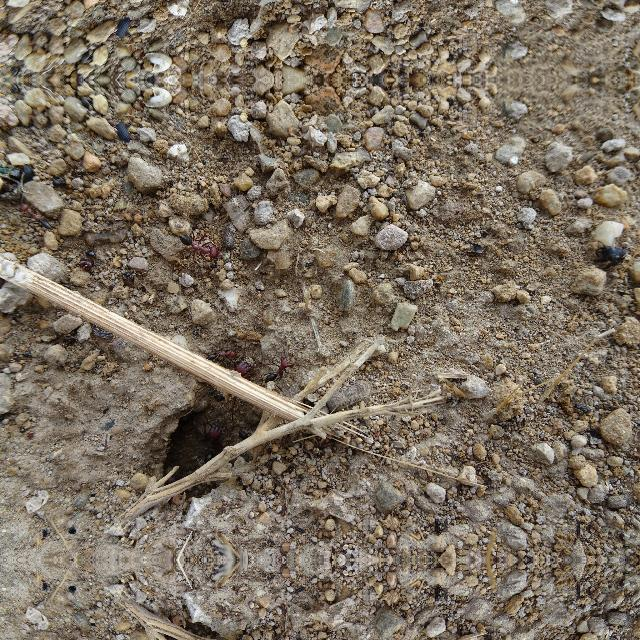Cataglyphis: (173, 228, 227, 262), (12, 200, 58, 236), (208, 344, 258, 374), (220, 358, 254, 402), (202, 422, 230, 470), (262, 352, 298, 386), (76, 246, 104, 272), (432, 516, 451, 536), (432, 584, 451, 604)
